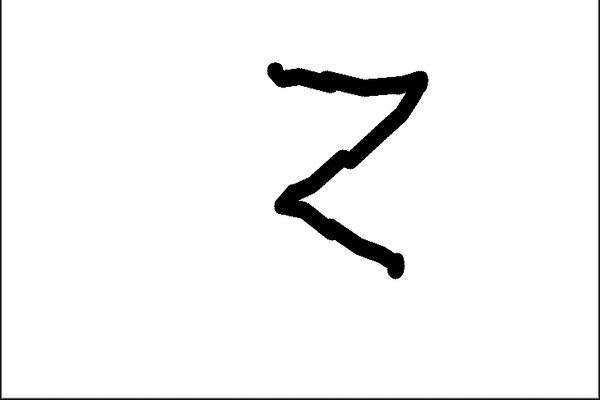Z: (253, 46, 436, 292)
